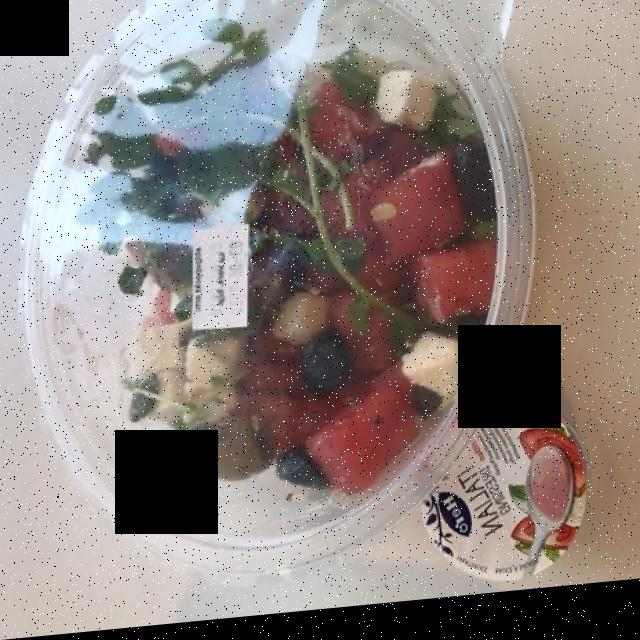black-olives: (140, 156, 346, 510)
feta: (111, 71, 466, 420)
watermelon-fresh: (161, 76, 481, 491)
